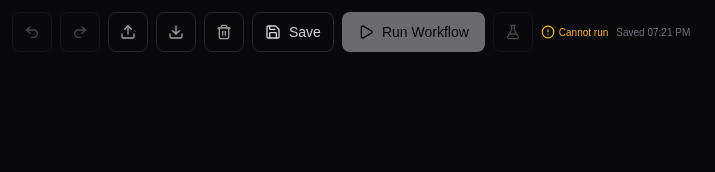
Test: saving a workflow › writes the open workflow to storage
Click the button "Save" at (293,32), box [252, 12, 334, 52]
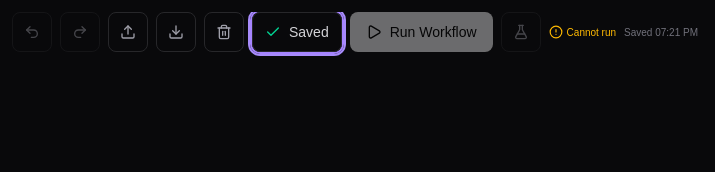
Check: the text "Saved" is shown, box [289, 22, 329, 42]
